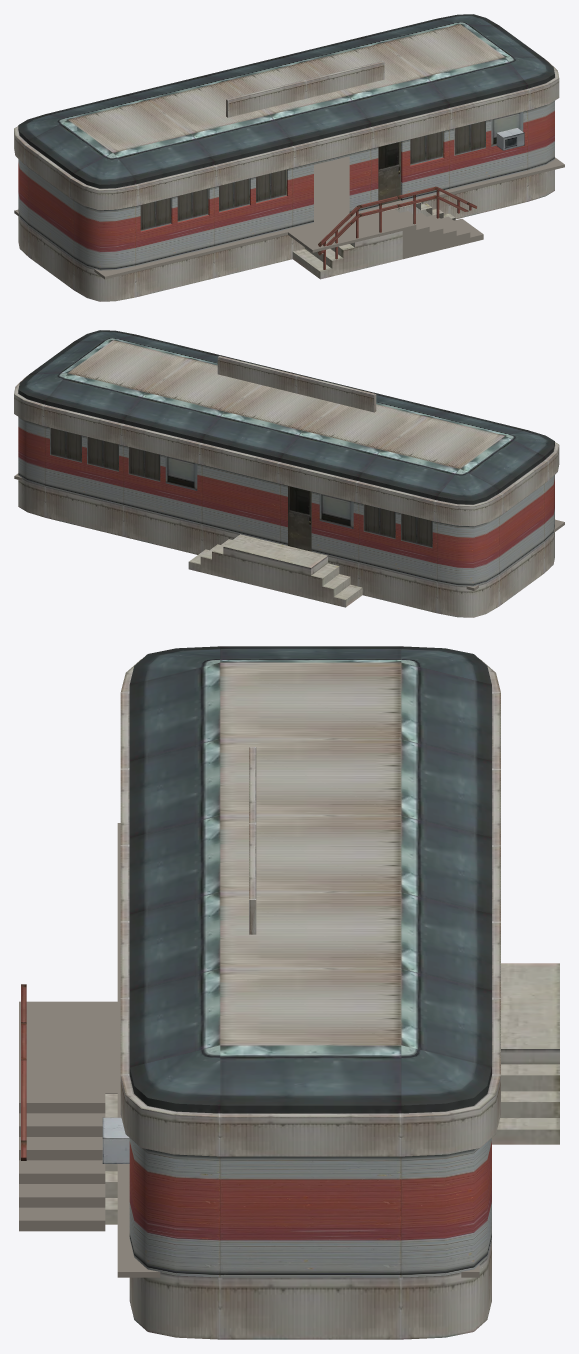
File: rural-diner.access-v2.lod0.glb
The picture shows the model from 3 angles, top to bottom: view 1: azimuth 30°, elevation 25°; view 2: azimuth 150°, elevation 25°; view 3: azimuth 270°, elevation 25°; orthographic projection. The views are drawn at different scales.
Visible parts, largest first — view 1: Rural_Diner_1_Rural_Facade_FLR_2_0, Rural_Diner_1_Rural_Trailer_Stuff_1_0, Walkable floors and stairs; view 2: Rural_Diner_1_Rural_Facade_FLR_2_0, Rural_Diner_1_Rural_Trailer_Stuff_1_0; view 3: Rural_Diner_1_Rural_Facade_FLR_2_0, Rural_Diner_1_Rural_Trailer_Stuff_1_0, Walkable floors and stairs.
Part boxes in pixels (left/top/right/bottom): Rural_Diner_1_Rural_Facade_FLR_2_0: left=14, top=14, right=559, bottom=301; Rural_Diner_1_Rural_Trailer_Stuff_1_0: left=18, top=101, right=554, bottom=270; Walkable floors and stairs: left=14, top=156, right=564, bottom=279; Rural_Diner_1_Rural_Facade_FLR_2_0: left=14, top=330, right=559, bottom=617; Rural_Diner_1_Rural_Trailer_Stuff_1_0: left=18, top=417, right=554, bottom=586; Rural_Diner_1_Rural_Facade_FLR_2_0: left=21, top=646, right=559, bottom=1339; Rural_Diner_1_Rural_Trailer_Stuff_1_0: left=129, top=1138, right=491, bottom=1277; Walkable floors and stairs: left=19, top=823, right=479, bottom=1277.
Bounding box in the file's own units: 18.3 × 5.31 × 8.96.
3 materials, 2 textured.
